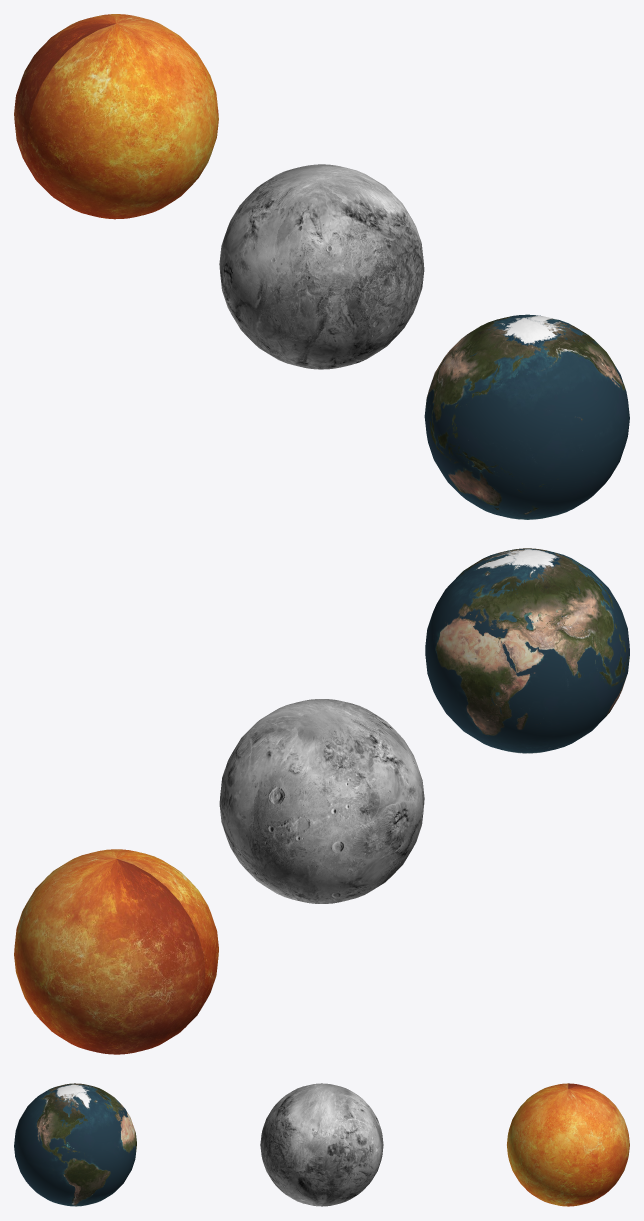
Rendered from planets.fbx.
The picture shows the model from 3 angles, top to bottom: view 1: azimuth 30°, elevation 25°; view 2: azimuth 150°, elevation 25°; view 3: azimuth 270°, elevation 25°; orthographic projection. The views are drawn at different scales.
Parts seen in each view (by area): view 1: Earth, Moon, Sun; view 2: Sun, Earth, Moon; view 3: Moon, Sun, Earth.
Boxes of the visible parts, bbox=[...] form: Earth: bbox=[424, 314, 629, 519]; Moon: bbox=[219, 164, 424, 369]; Sun: bbox=[14, 14, 218, 219]; Sun: bbox=[14, 849, 218, 1054]; Earth: bbox=[425, 548, 629, 753]; Moon: bbox=[219, 699, 424, 903]; Moon: bbox=[260, 1083, 383, 1206]; Sun: bbox=[507, 1083, 629, 1206]; Earth: bbox=[14, 1083, 136, 1206].
Size of the model in its own units: 200 by 200 by 1000.
